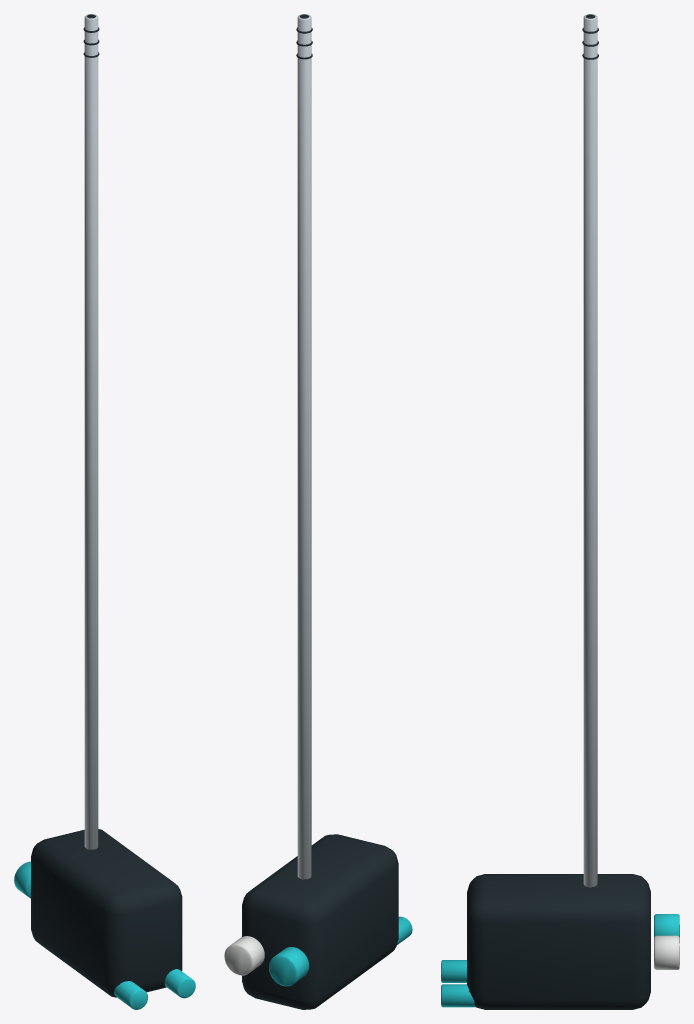
Rendered from inst_suction_irrigator.fbx.
3 renders of one model, left to right at view 1: azimuth 30°, elevation 25°; view 2: azimuth 150°, elevation 25°; view 3: azimuth 270°, elevation 25°, orthographic. The views are drawn at different scales.
Visible parts, largest first — view 1: inst_suction_irrigator_Geometry, Trigger_Geometry; view 2: inst_suction_irrigator_Geometry, IrrigationButton_Geometry, Trigger_Geometry; view 3: inst_suction_irrigator_Geometry, IrrigationButton_Geometry, Trigger_Geometry.
Part boxes in pixels (x1,y1,x2,y2): inst_suction_irrigator_Geometry: [31, 14, 195, 1009]; Trigger_Geometry: [14, 861, 30, 898]; inst_suction_irrigator_Geometry: [242, 14, 412, 1009]; IrrigationButton_Geometry: [224, 936, 264, 975]; Trigger_Geometry: [269, 947, 309, 986]; inst_suction_irrigator_Geometry: [441, 14, 650, 1009]; IrrigationButton_Geometry: [654, 935, 679, 969]; Trigger_Geometry: [654, 914, 679, 942].
Size of the model in its own units: 0.032 by 0.3761 by 0.083.
